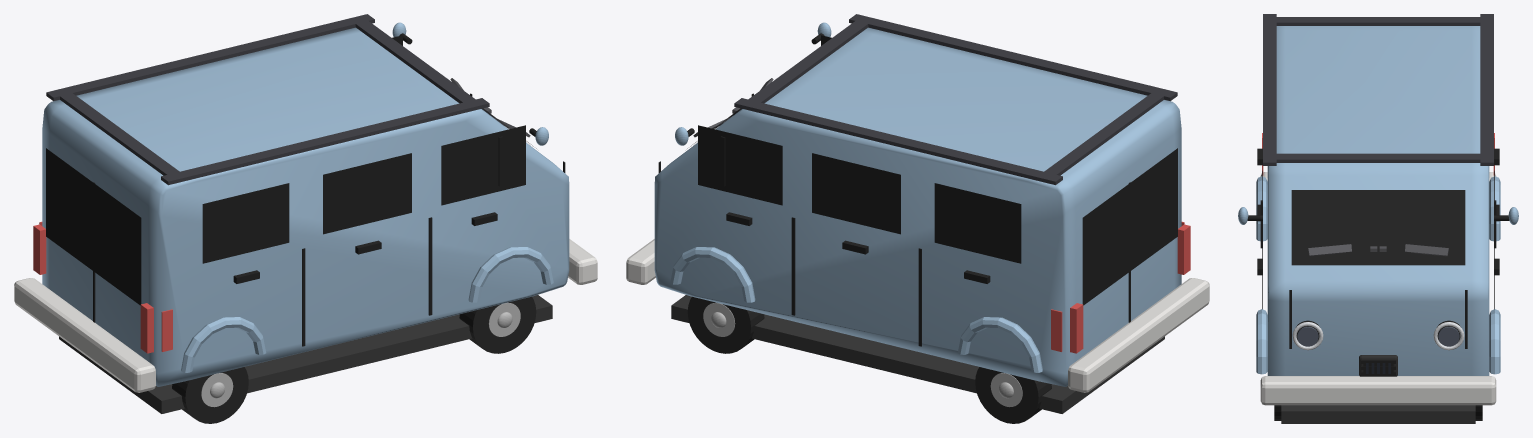
Rendered from 06-van.glb.
The picture shows the model from 3 angles, left to right: view 1: azimuth 30°, elevation 25°; view 2: azimuth 150°, elevation 25°; view 3: azimuth 270°, elevation 25°; orthographic projection. The views are drawn at different scales.
Parts seen in each view (by area): view 1: Body, RearWindowTrim, UnderSlab, BumperR, MidWinTrim_R, RearWinTrim_R, CabWinTrim_R, Gutter_R, Gutter_L, Tire_x+0.68_R, Tire_x-0.68_R, GutterF (+8 smaller); view 2: Body, RearWindowTrim, UnderSlab, BumperR, MidWinTrim_L, RearWinTrim_L, CabWinTrim_L, Gutter_L, Gutter_R, Tire_x+0.68_L, Tire_x-0.68_L, GutterF (+8 smaller); view 3: Body, WindshieldTrim, BumperF, UnderSlab, GutterF, Gutter_L, Gutter_R, GutterB, ArchLip_x+0.68_R, ArchLip_x+0.68_L, ArchLip_x-0.68_R, ArchLip_x-0.68_L (+7 smaller).
Part boxes in pixels (x1,y1,x2,y2): Body: [42, 27, 569, 386]; RearWindowTrim: [46, 148, 141, 305]; UnderSlab: [59, 295, 552, 413]; BumperR: [14, 278, 155, 392]; MidWinTrim_R: [323, 153, 411, 234]; RearWinTrim_R: [202, 183, 289, 263]; CabWinTrim_R: [441, 125, 525, 205]; Gutter_R: [161, 98, 489, 185]; Gutter_L: [46, 14, 374, 101]; Tire_x+0.68_R: [459, 296, 536, 353]; Tire_x-0.68_R: [172, 367, 248, 423]; GutterF: [349, 15, 483, 111]; Body: [654, 27, 1181, 386]; RearWindowTrim: [1082, 148, 1177, 305]; UnderSlab: [671, 295, 1164, 413]; BumperR: [1068, 278, 1209, 392]; MidWinTrim_L: [812, 153, 900, 234]; RearWinTrim_L: [934, 183, 1021, 263]; CabWinTrim_L: [698, 125, 782, 205]; Gutter_L: [734, 98, 1062, 185]; Gutter_R: [849, 14, 1177, 101]; Tire_x+0.68_L: [687, 296, 764, 353]; Tire_x-0.68_L: [975, 367, 1051, 423]; GutterF: [740, 15, 874, 110]; Body: [1267, 26, 1489, 375]; WindshieldTrim: [1291, 190, 1465, 265]; BumperF: [1260, 376, 1496, 405]; UnderSlab: [1281, 405, 1475, 423]; GutterF: [1263, 153, 1493, 162]; Gutter_L: [1480, 14, 1493, 165]; Gutter_R: [1263, 14, 1276, 165]; GutterB: [1263, 17, 1493, 25]; ArchLip_x+0.68_R: [1256, 309, 1267, 374]; ArchLip_x+0.68_L: [1489, 309, 1500, 374]; ArchLip_x-0.68_R: [1256, 176, 1267, 241]; ArchLip_x-0.68_L: [1489, 176, 1500, 241].
Bounding box in the file's own units: 2.19 × 1.17 × 1.21.
